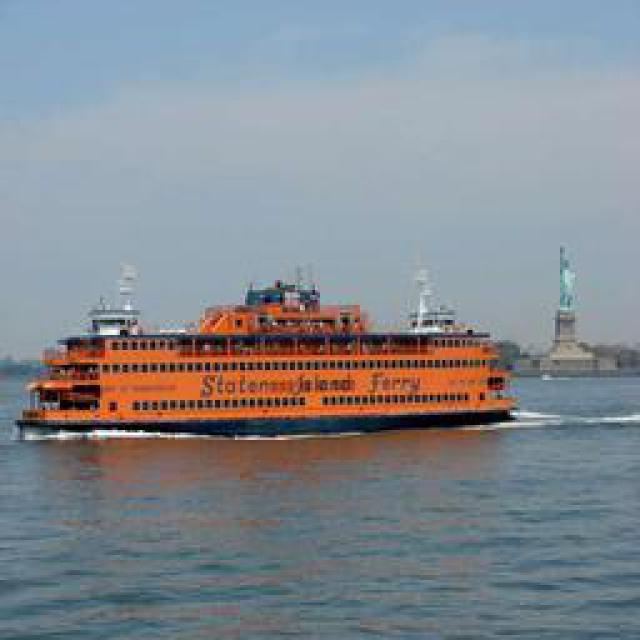Ship: (16, 257, 521, 437)
